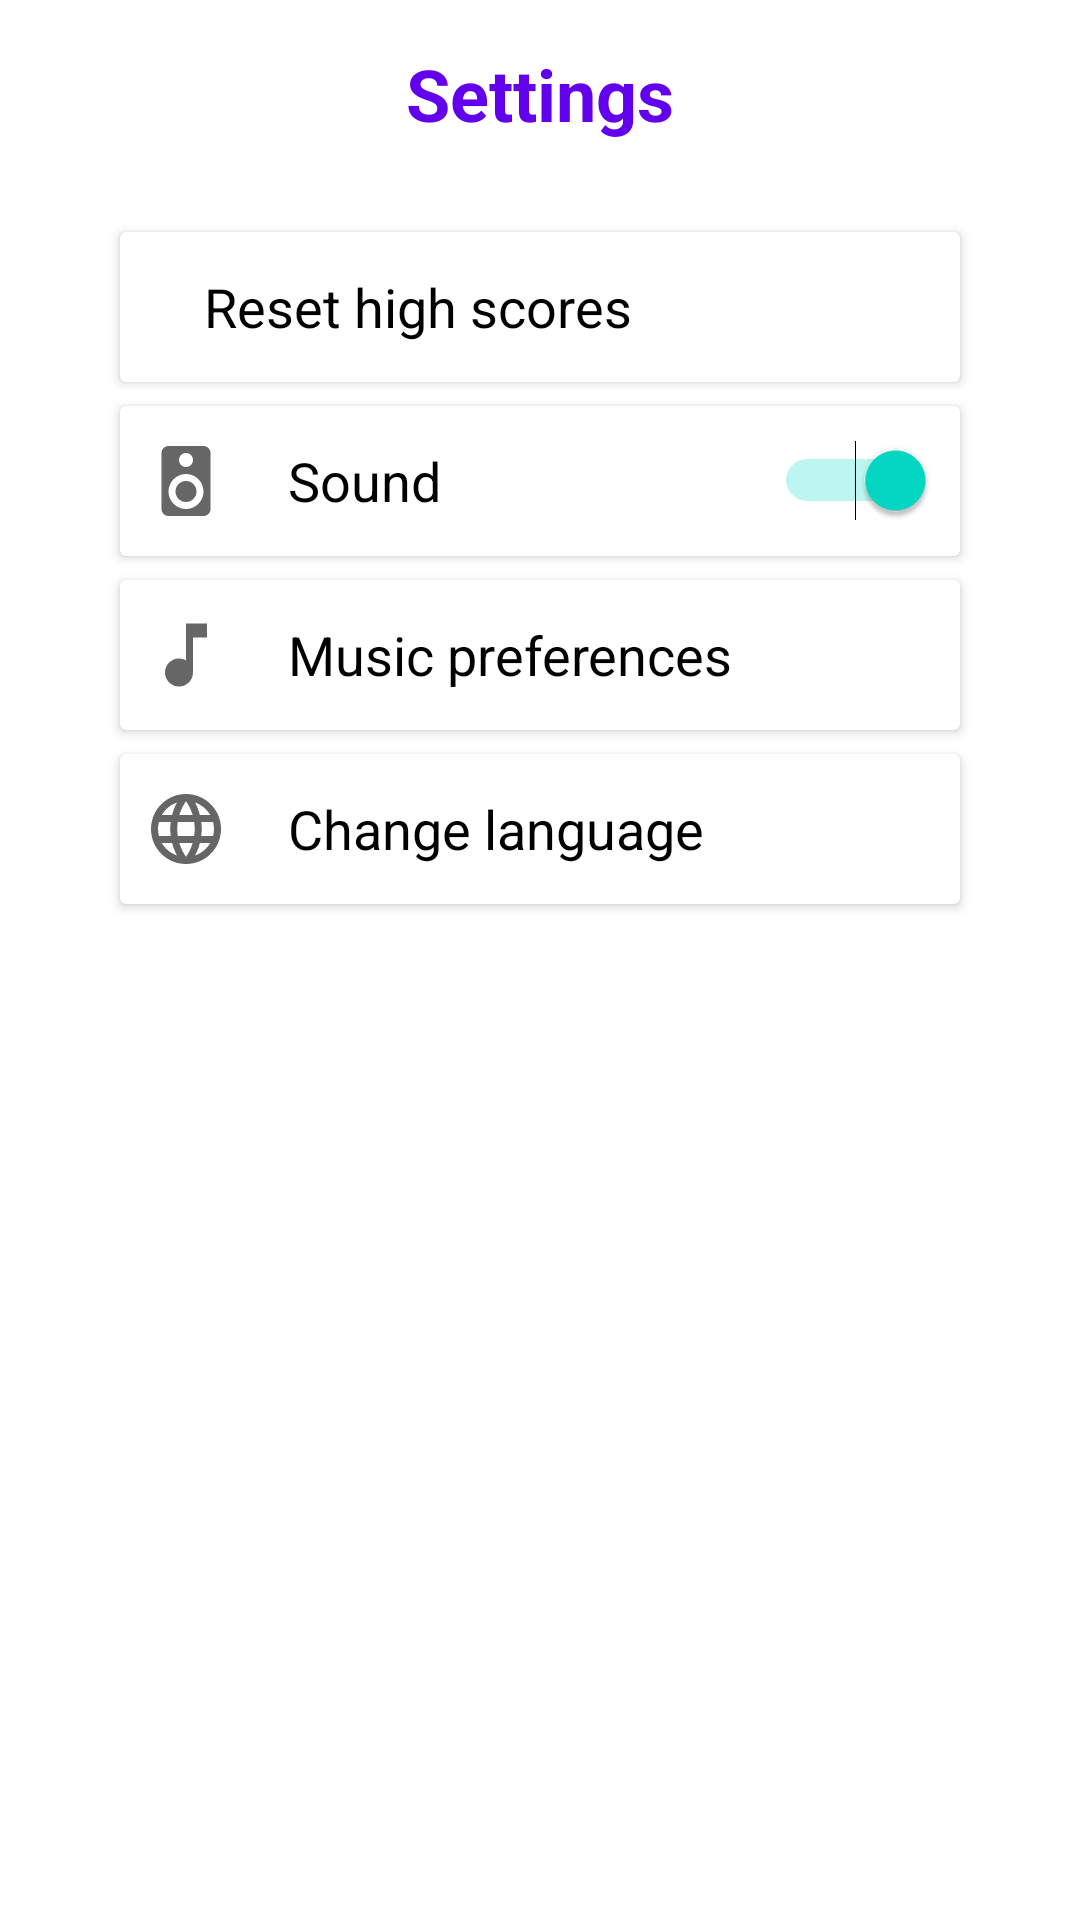

Where icons sit on this 1080w x 1920h app screen, as (x1, y1, x2, y2):
music note: (165, 623, 207, 687)
speaker: (161, 446, 211, 516)
